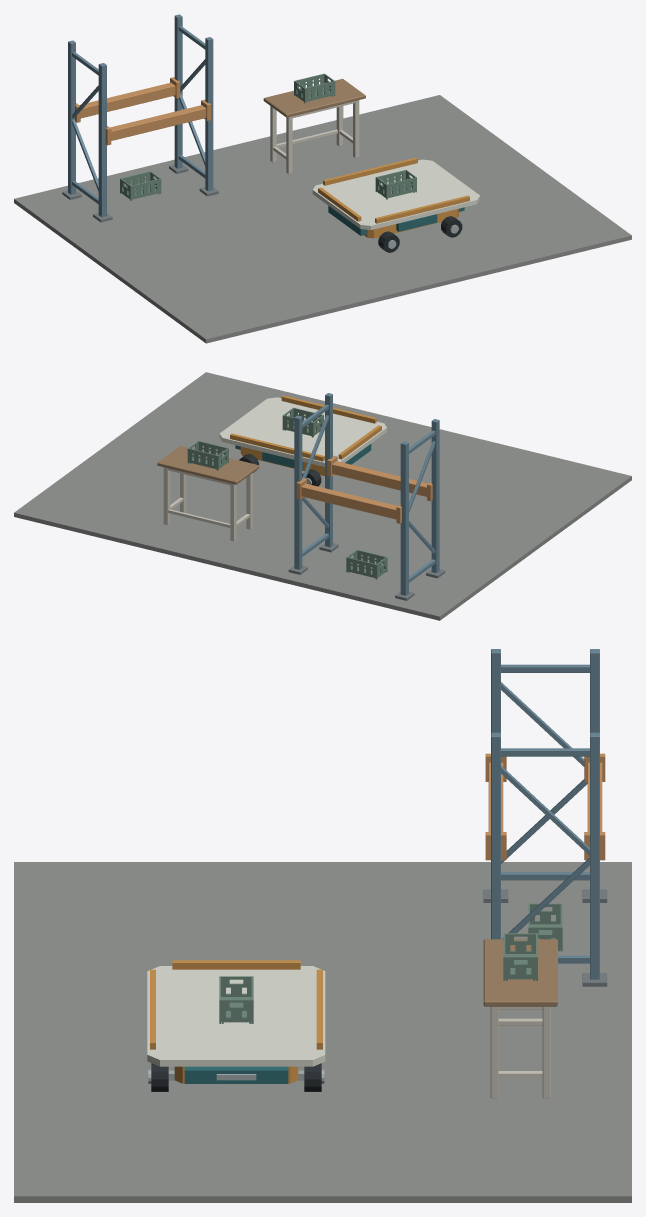
3 renders of one model, top to bottom at view 1: azimuth 30°, elevation 25°; view 2: azimuth 150°, elevation 25°; view 3: azimuth 270°, elevation 25°, orthographic. The views are drawn at different scales.
Visible parts, largest first — view 1: SCENE_ONLY__SupportFloor, parked_transport_platform__IndependentWideLoadingDeck, transfer_worktable__Complete work surface, north_storage_rack__Pallet bearing beam, north_storage_rack__Upright post, north_storage_rack__Upright post.002, north_storage_rack__Pallet bearing beam.001, north_storage_rack__Upright post.001, north_storage_rack__Upright post.003, rack_floor_cargo__Crate continuous ventilated shell feet and, deck_cargo__Crate continuous ventilated shell feet and locat, bench_cargo__Crate continuous ventilated shell feet and loca (+3 smaller); view 2: SCENE_ONLY__SupportFloor, parked_transport_platform__IndependentWideLoadingDeck, transfer_worktable__Complete work surface, north_storage_rack__Pallet bearing beam.001, north_storage_rack__Upright post.001, north_storage_rack__Upright post.003, north_storage_rack__Upright post, north_storage_rack__Pallet bearing beam, north_storage_rack__Upright post.002, rack_floor_cargo__Crate continuous ventilated shell feet and, bench_cargo__Crate continuous ventilated shell feet and loca, deck_cargo__Crate continuous ventilated shell feet and locat (+6 smaller); view 3: SCENE_ONLY__SupportFloor, parked_transport_platform__IndependentWideLoadingDeck, transfer_worktable__Complete work surface, north_storage_rack__Upright post.003, north_storage_rack__Upright post.002, parked_transport_platform__FrontExternalGuard, bench_cargo__Crate continuous ventilated shell feet and loca, deck_cargo__Crate continuous ventilated shell feet and locat, parked_transport_platform__RearLowDeckEdgeStop, rack_floor_cargo__Crate continuous ventilated shell feet and, north_storage_rack__Upright post, north_storage_rack__Upright post.001 (+5 smaller).
Boxes of the visible parts, x1,y1,x2,y2 form: SCENE_ONLY__SupportFloor: [14, 95, 631, 343]; parked_transport_platform__IndependentWideLoadingDeck: [312, 159, 480, 229]; transfer_worktable__Complete work surface: [263, 78, 365, 117]; north_storage_rack__Pallet bearing beam: [110, 105, 206, 140]; north_storage_rack__Upright post: [98, 63, 106, 217]; north_storage_rack__Upright post.002: [205, 37, 213, 191]; north_storage_rack__Pallet bearing beam.001: [79, 82, 175, 118]; north_storage_rack__Upright post.001: [68, 40, 75, 194]; north_storage_rack__Upright post.003: [174, 14, 182, 168]; rack_floor_cargo__Crate continuous ventilated shell feet and: [120, 171, 161, 200]; deck_cargo__Crate continuous ventilated shell feet and locat: [375, 169, 416, 199]; bench_cargo__Crate continuous ventilated shell feet and loca: [294, 73, 335, 103]; SCENE_ONLY__SupportFloor: [14, 372, 631, 620]; parked_transport_platform__IndependentWideLoadingDeck: [219, 397, 386, 466]; transfer_worktable__Complete work surface: [157, 446, 259, 484]; north_storage_rack__Pallet bearing beam.001: [301, 483, 397, 519]; north_storage_rack__Upright post.001: [400, 441, 408, 595]; north_storage_rack__Upright post.003: [294, 415, 302, 569]; north_storage_rack__Upright post: [431, 419, 439, 573]; north_storage_rack__Pallet bearing beam: [332, 461, 428, 496]; north_storage_rack__Upright post.002: [325, 393, 332, 547]; rack_floor_cargo__Crate continuous ventilated shell feet and: [346, 549, 387, 579]; bench_cargo__Crate continuous ventilated shell feet and loca: [187, 441, 228, 470]; deck_cargo__Crate continuous ventilated shell feet and locat: [282, 407, 323, 437]; SCENE_ONLY__SupportFloor: [14, 862, 631, 1202]; parked_transport_platform__IndependentWideLoadingDeck: [147, 966, 325, 1066]; transfer_worktable__Complete work surface: [483, 939, 557, 1006]; north_storage_rack__Upright post.003: [590, 732, 599, 979]; north_storage_rack__Upright post.002: [491, 732, 500, 939]; parked_transport_platform__FrontExternalGuard: [184, 1066, 288, 1083]; bench_cargo__Crate continuous ventilated shell feet and loca: [503, 933, 537, 980]; deck_cargo__Crate continuous ventilated shell feet and locat: [219, 976, 253, 1023]; parked_transport_platform__RearLowDeckEdgeStop: [172, 960, 300, 969]; rack_floor_cargo__Crate continuous ventilated shell feet and: [528, 903, 562, 951]; north_storage_rack__Upright post: [491, 649, 500, 732]; north_storage_rack__Upright post.001: [590, 649, 599, 732].
Bounding box in the file's own units: 6.4 × 2.27 × 5.
